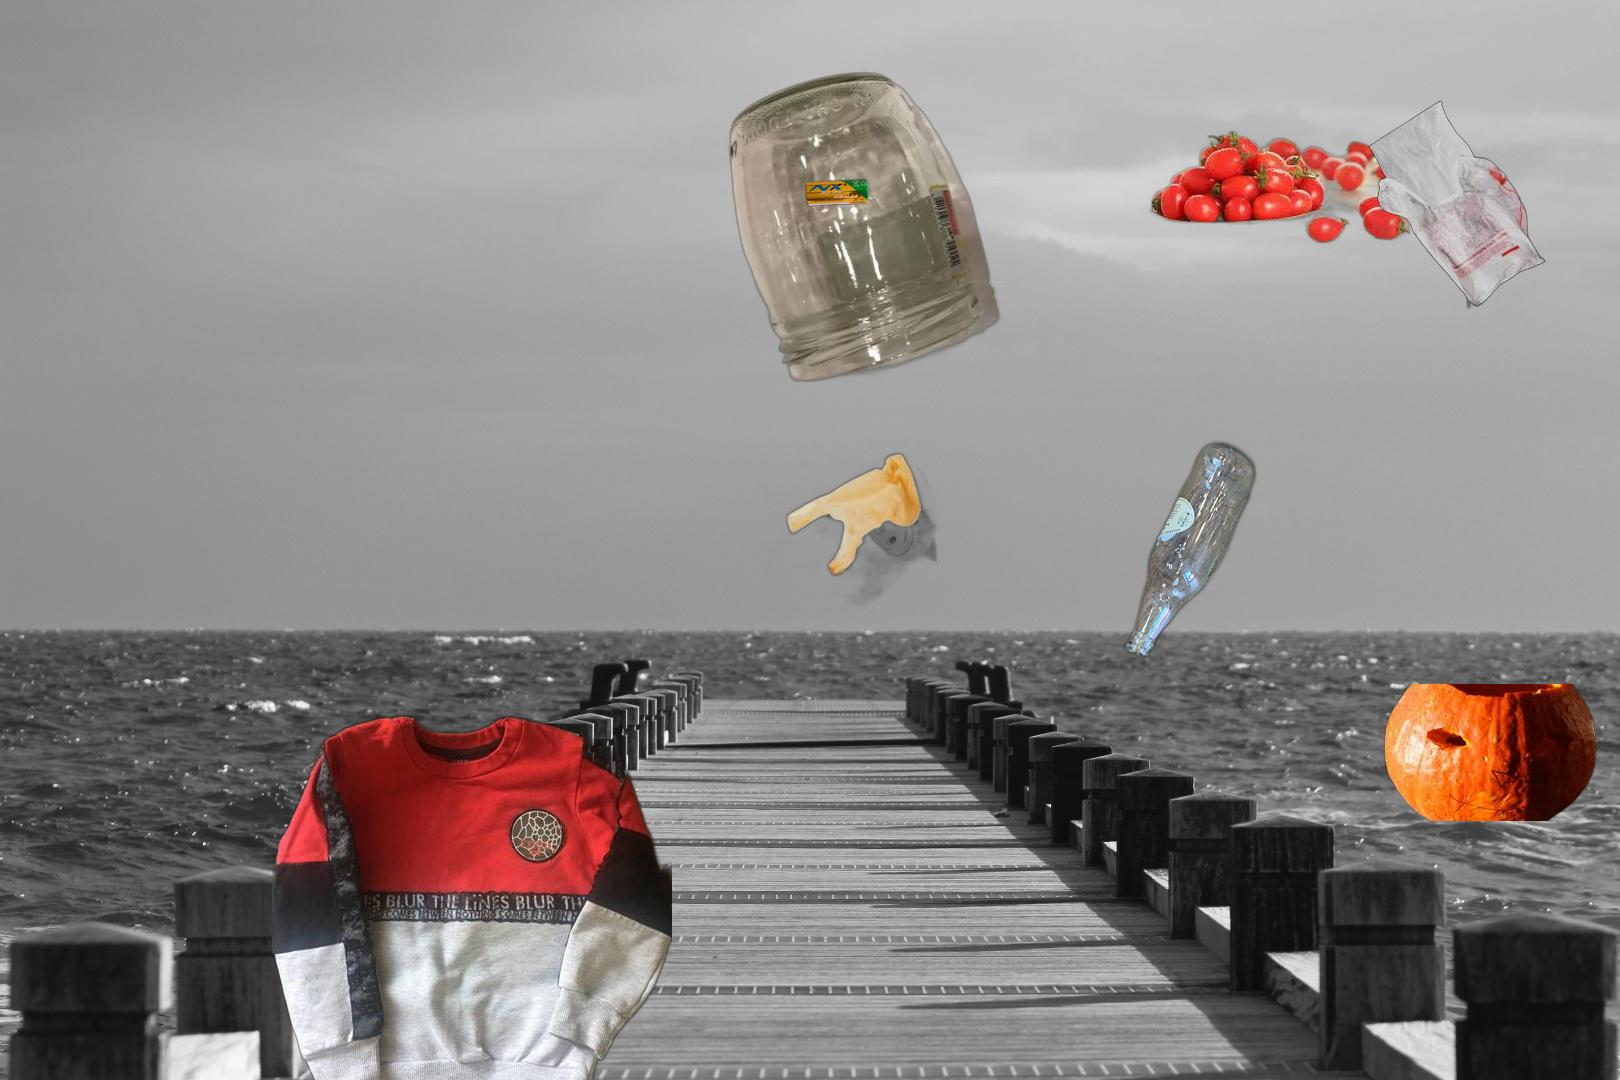battery: (802, 176, 871, 209)
biological: (1138, 127, 1410, 265), (1381, 683, 1600, 821)
clothes: (272, 711, 673, 1080)
glass: (724, 70, 1004, 385), (1120, 438, 1260, 662)
plastic-bag: (1368, 98, 1548, 311), (763, 423, 940, 618)
